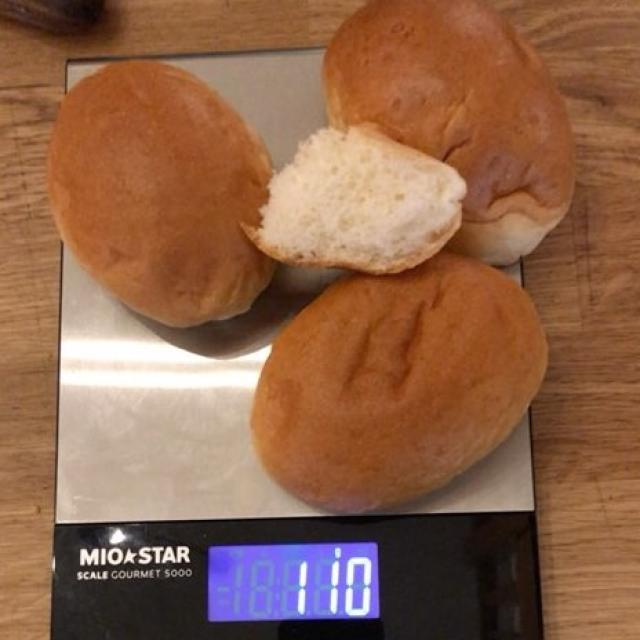bread-white: (46, 5, 569, 506)
